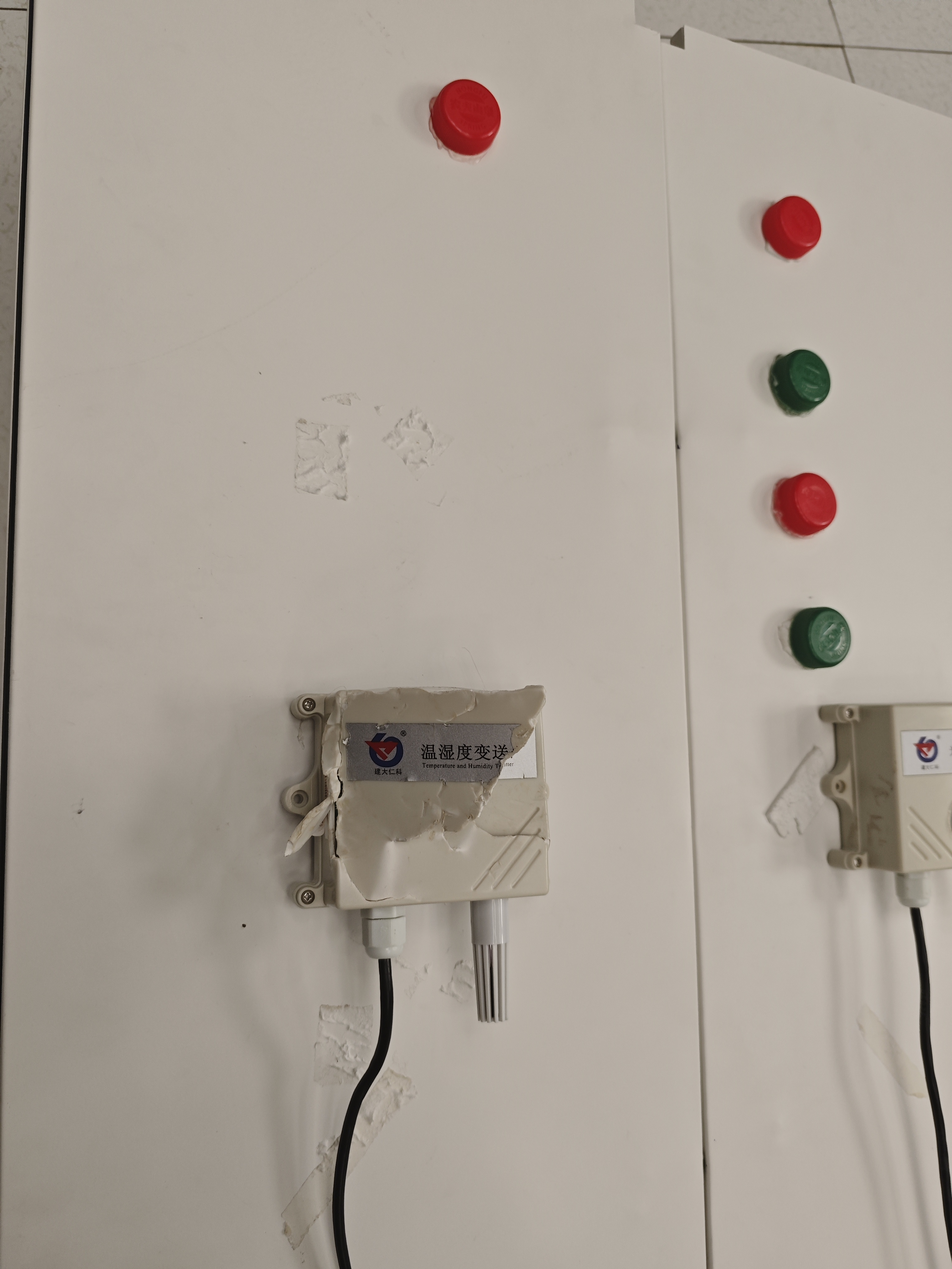red_warning: (748, 449, 879, 565), (399, 61, 521, 178), (738, 159, 848, 283)
sensor_damage: (254, 652, 653, 1075)
